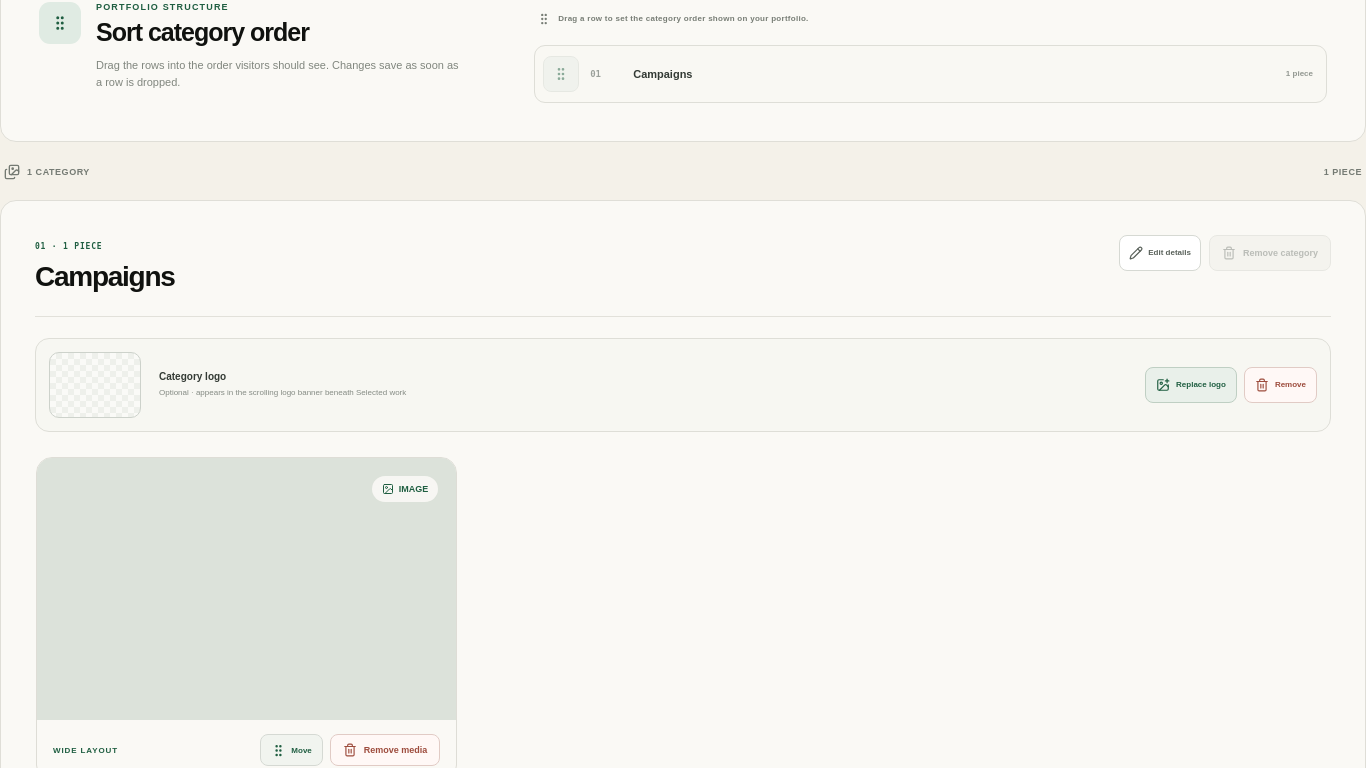
Test: PortfolioManager media removal › removes a category logo and keeps the category intact
(page scrolled)
Click the button with aria-label "Remove Campaigns logo": (1280,384) [1244,366,1317,402]
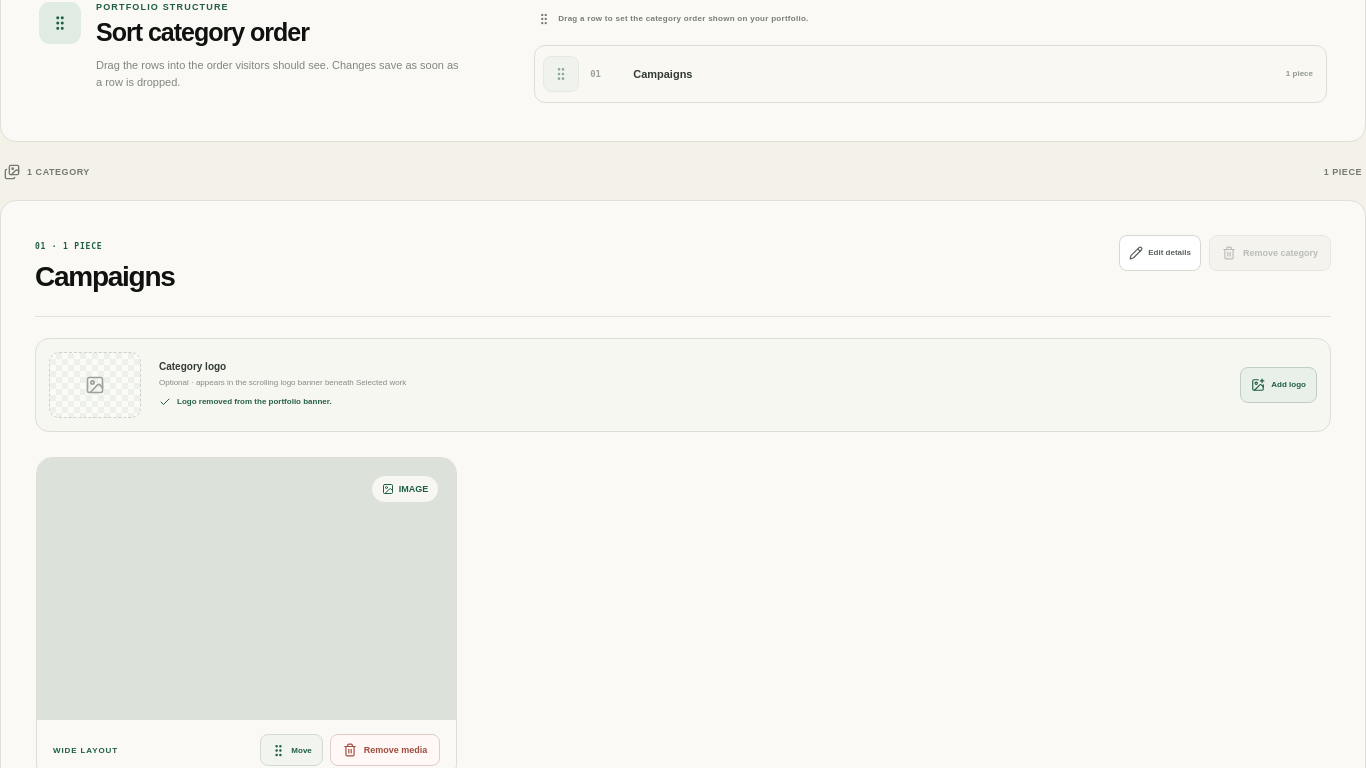
Expected: the text "Campaigns" is shown, [633,68,692,80]
Expected: the text "Logo removed from the portfolio banner." is shown, [159,396,332,408]
